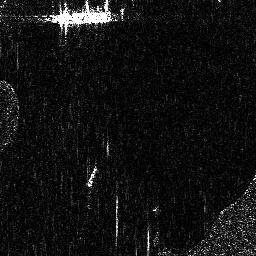ship: (51, 7, 120, 26)
